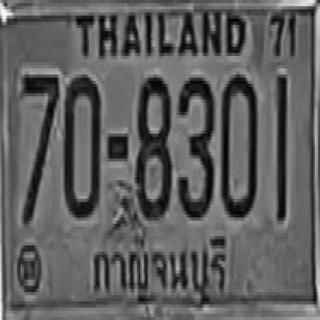N00: (62, 72, 100, 215), (220, 72, 256, 215)
N01: (276, 73, 286, 219)
N03: (176, 73, 212, 216)
N07: (20, 70, 58, 219)
N08: (135, 73, 169, 216)
P17: (87, 230, 231, 308)
